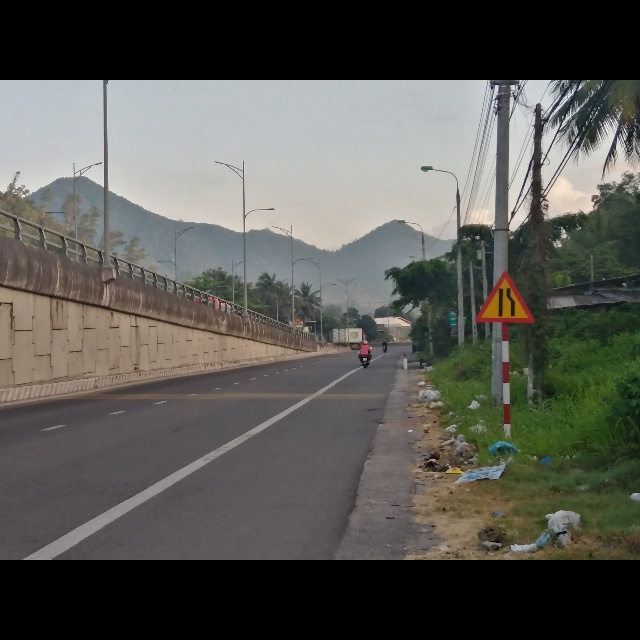Đường bị hẹp bên phải: (475, 269, 536, 323)
